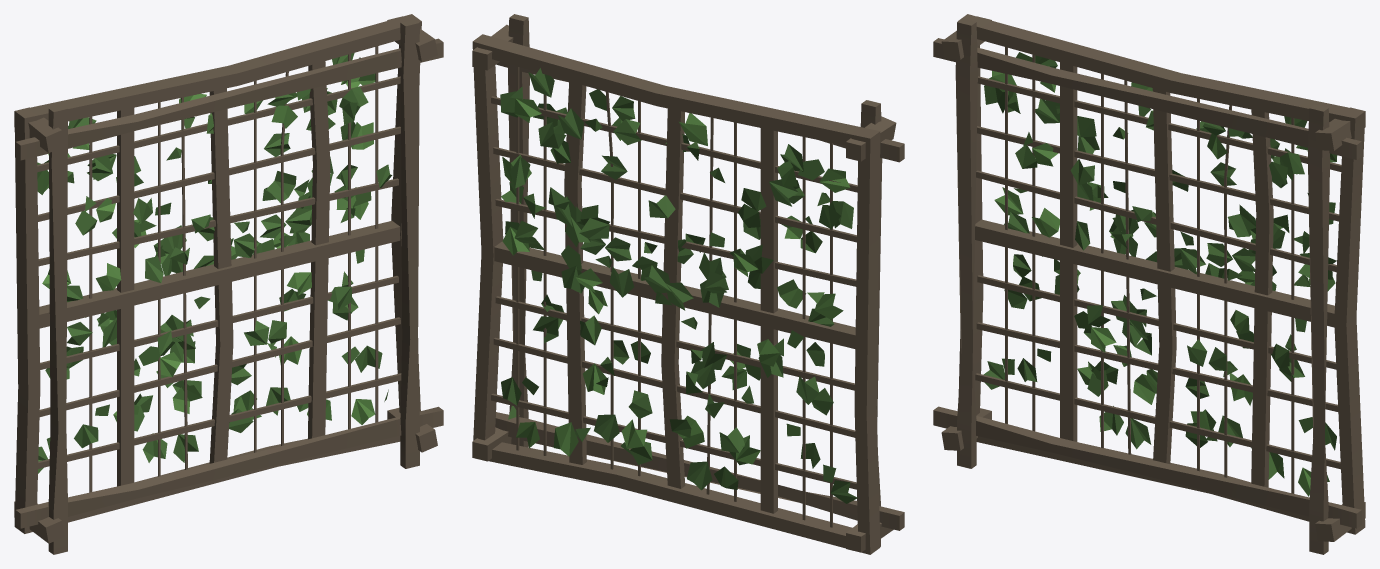
File: SM_Bld_Cuba_VineWall_01.glb
3 views of the same model, side by side, from view 1: azimuth 30°, elevation 25°; view 2: azimuth 150°, elevation 25°; view 3: azimuth 330°, elevation 25° (orthographic).
Parts seen in each view (by area): view 1: SM_Bld_Cuba_VineWall_01; view 2: SM_Bld_Cuba_VineWall_01; view 3: SM_Bld_Cuba_VineWall_01.
Boxes of the visible parts, x1,y1,x2,y2 form: SM_Bld_Cuba_VineWall_01: (14,14,443,554); SM_Bld_Cuba_VineWall_01: (472,14,904,554); SM_Bld_Cuba_VineWall_01: (933,14,1365,554).
Bounding box in the file's own units: 0.0359 × 0.0359 × 0.00577.
Materials: 1 (1 with a texture image).
